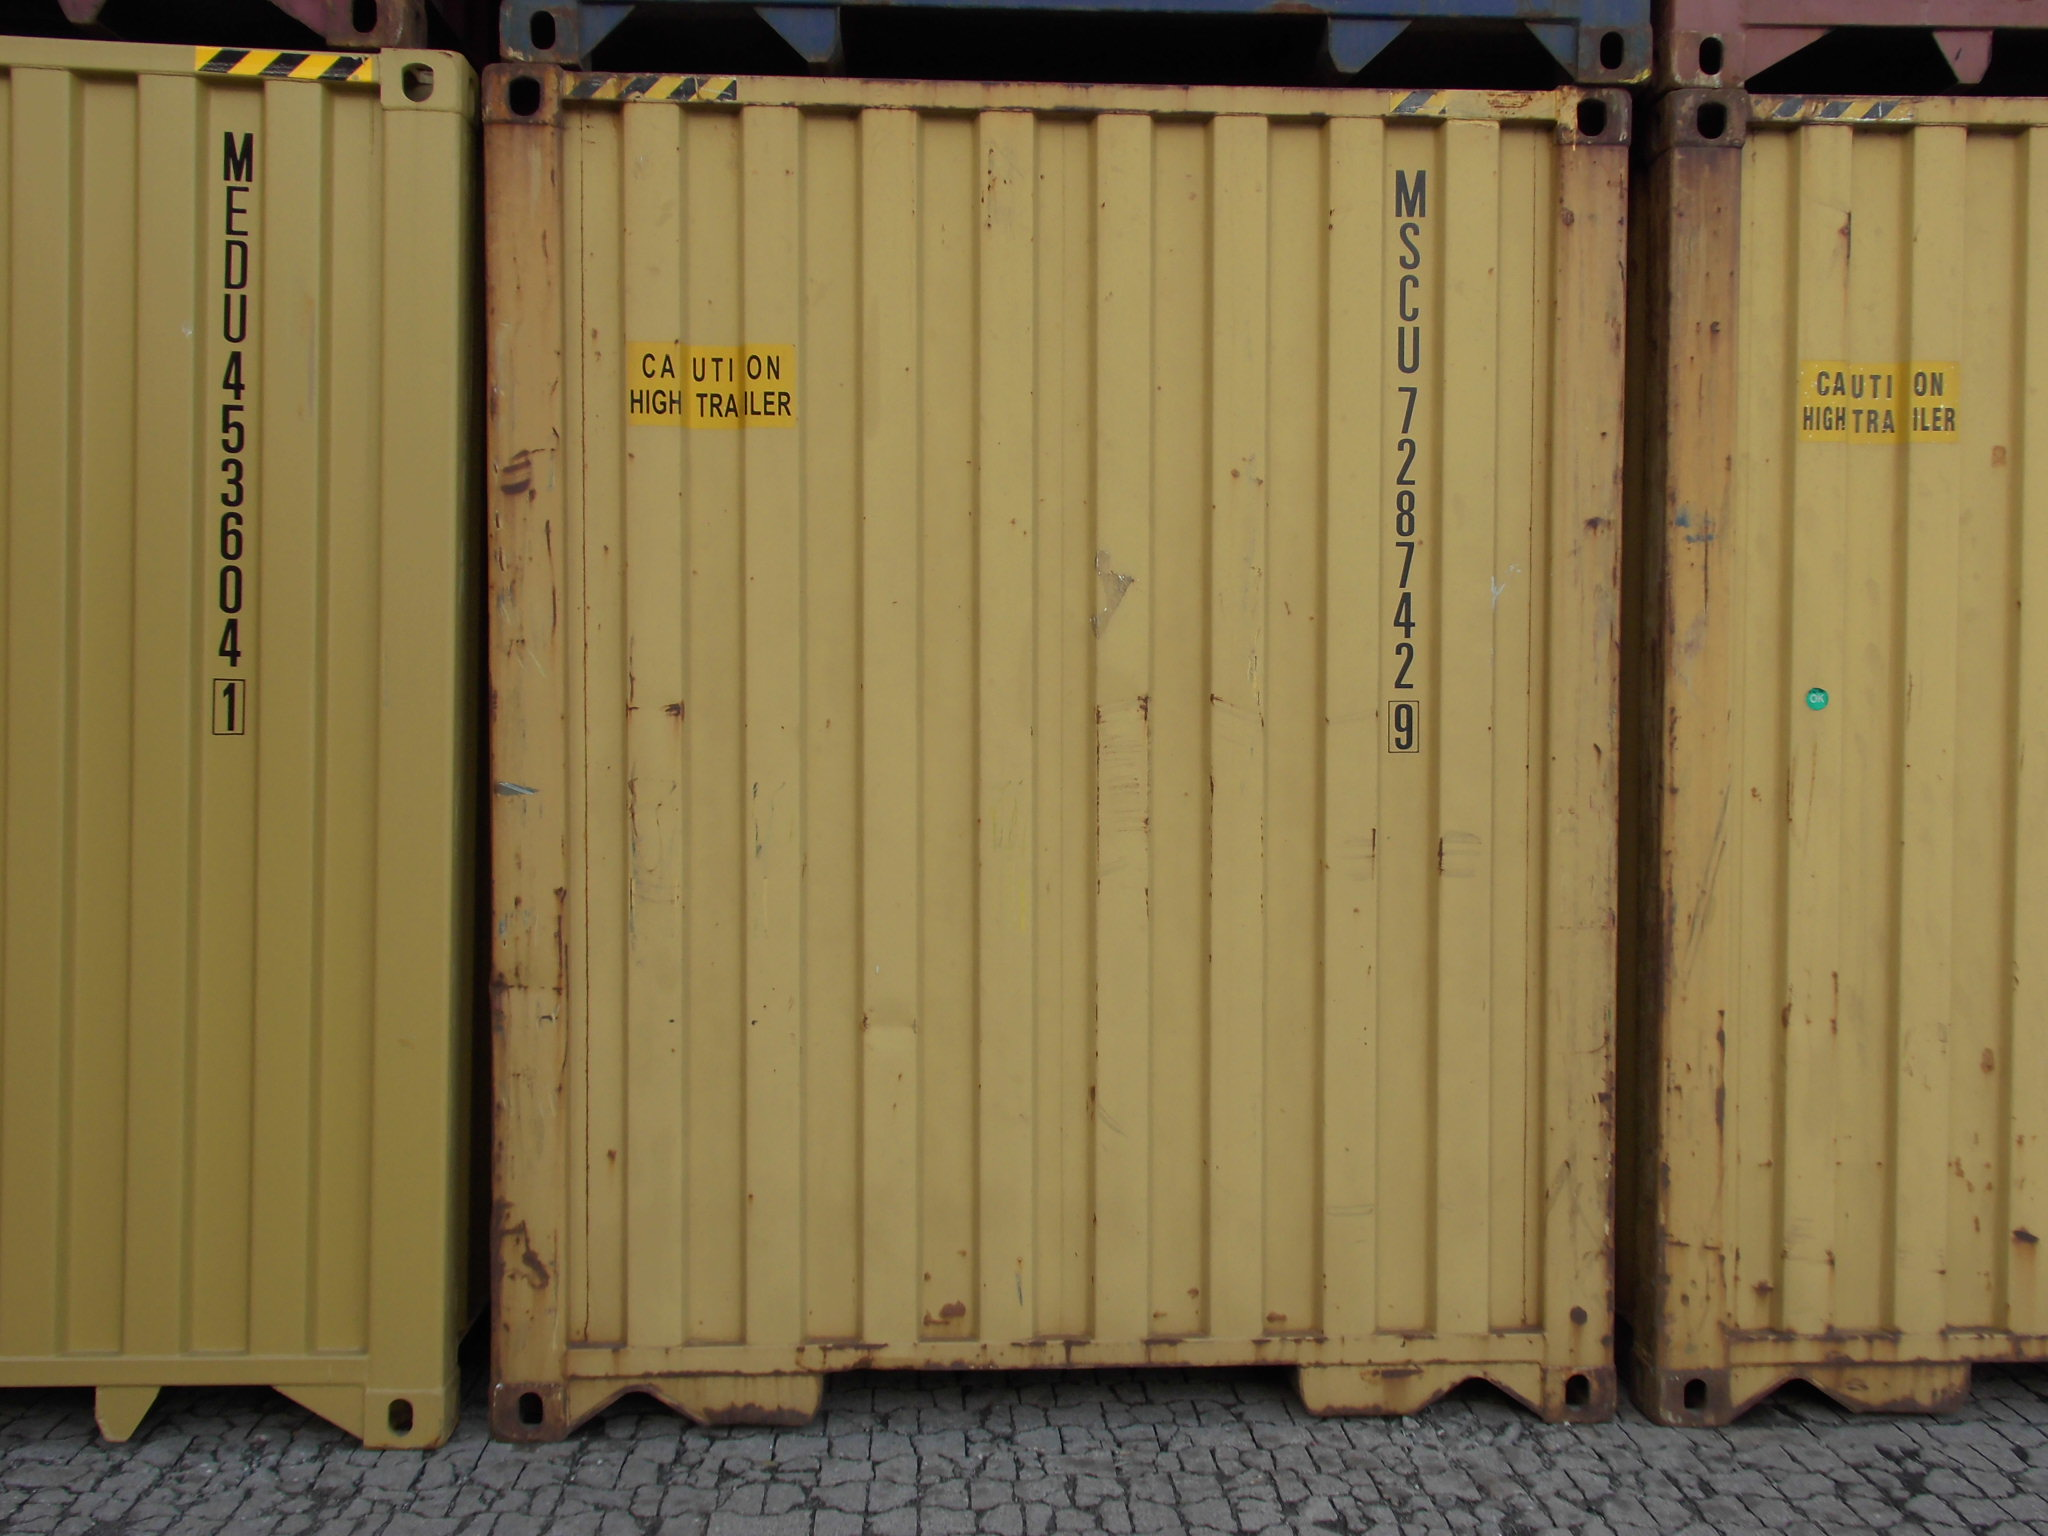container_no_door: (468, 56, 1624, 1418), (10, 27, 447, 1455)
